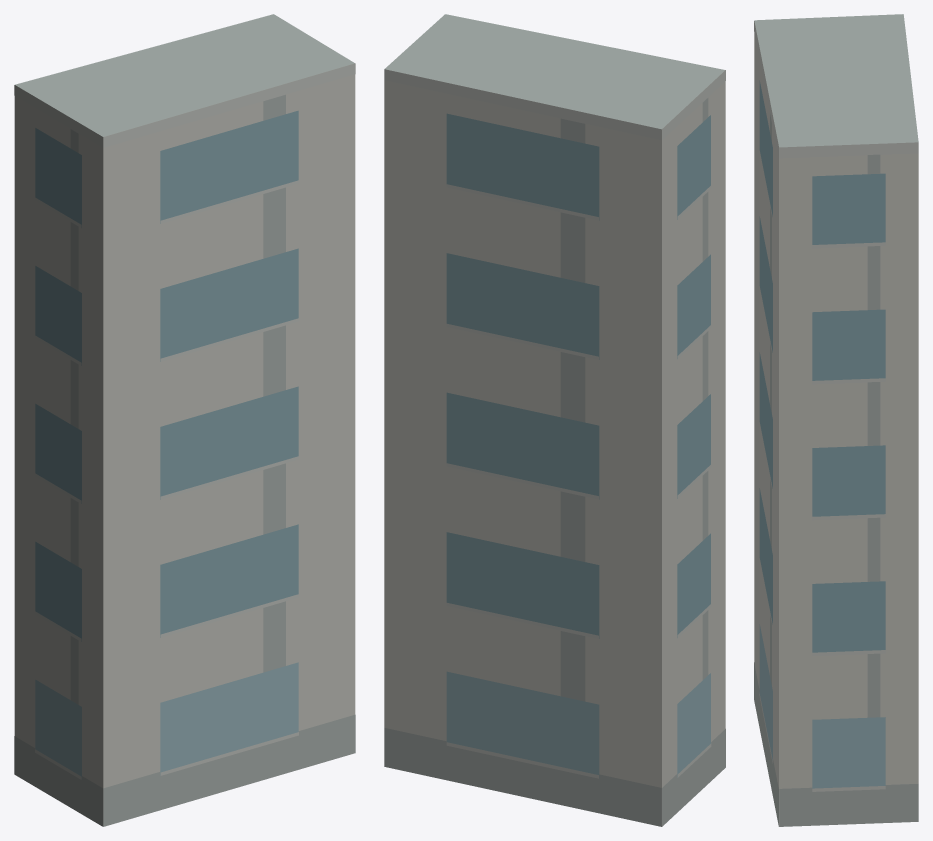
The model's file is survey-upis-32580898.glb.
3 renders of one model, left to right at view 1: azimuth 30°, elevation 25°; view 2: azimuth 150°, elevation 25°; view 3: azimuth 270°, elevation 25°, orthographic. The views are drawn at different scales.
Parts seen in each view (by area): view 1: survey-upis-32580898.tmp; view 2: survey-upis-32580898.tmp; view 3: survey-upis-32580898.tmp.
Part boxes in pixels (<box>): survey-upis-32580898.tmp: <box>14,14,355,826</box>; survey-upis-32580898.tmp: <box>384,14,725,826</box>; survey-upis-32580898.tmp: <box>754,14,918,826</box>.
Bounding box in the file's own units: 6.43 × 15.25 × 3.36.
